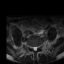CCS_normal: (34, 45, 36, 52)
LFS_normal: (37, 44, 39, 50)
LLS_normal: (36, 45, 37, 51)
RFS_normal: (30, 44, 32, 50)
RLS_normal: (32, 45, 34, 51)
